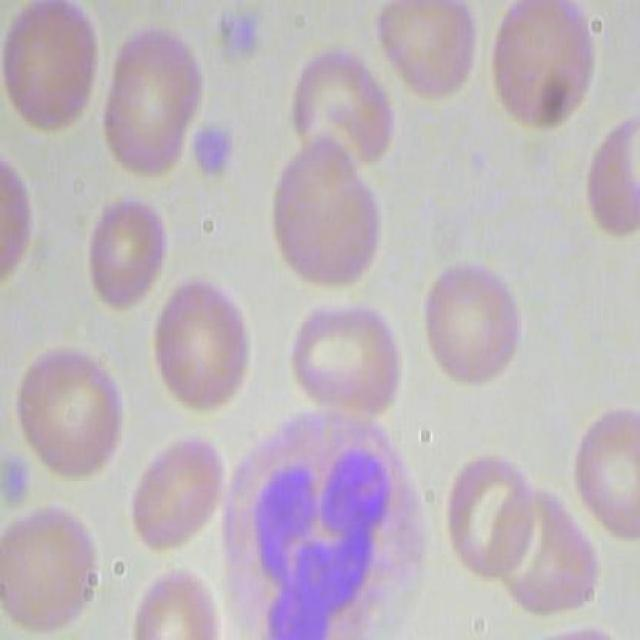Platelets: (186, 113, 245, 189), (206, 2, 259, 72), (1, 456, 27, 507)
RBC: (265, 135, 390, 294), (99, 22, 210, 182), (10, 333, 125, 482), (0, 489, 115, 638), (420, 247, 538, 385), (149, 276, 266, 415), (290, 282, 407, 420), (486, 1, 602, 139), (1, 1, 107, 145), (436, 443, 538, 582), (128, 431, 227, 564), (368, 1, 482, 105), (566, 398, 639, 540), (86, 190, 169, 308)
WBC: (218, 403, 444, 639)
